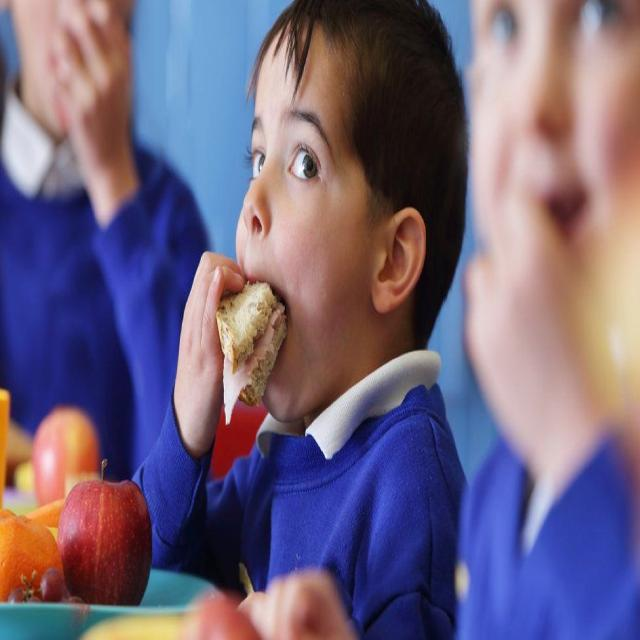child: (128, 0, 465, 640)
